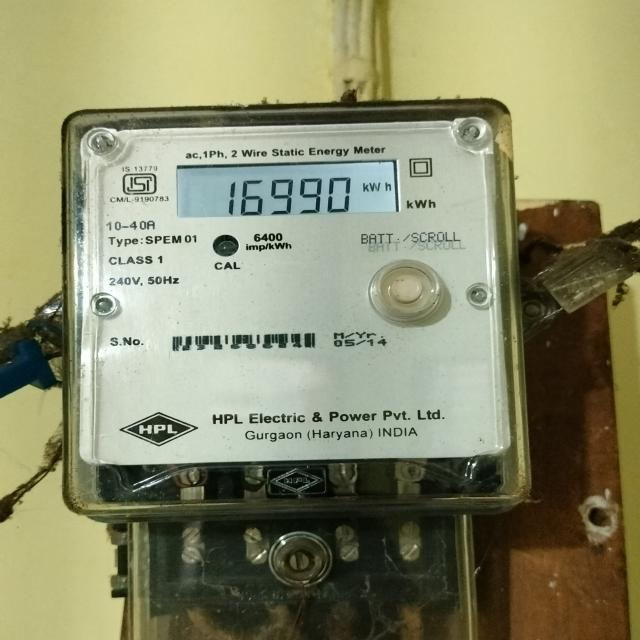display: (167, 161, 402, 216)
